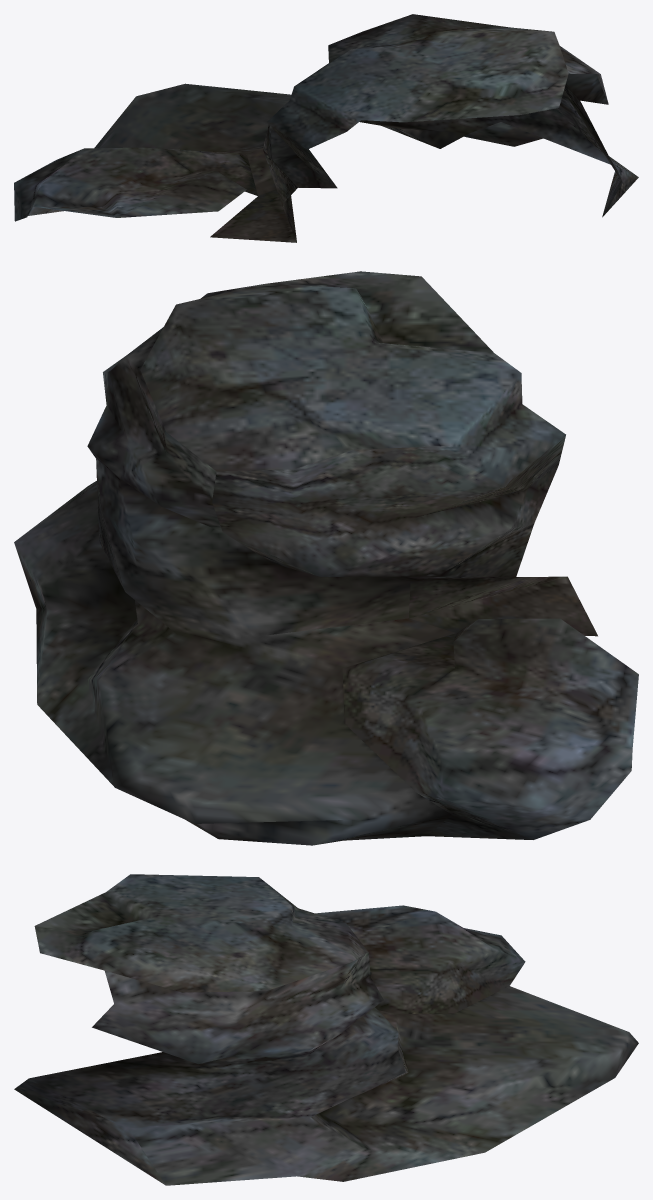
Rendered from S_Rock_Yellow034_H10.FBX.
The picture shows the model from 3 angles, top to bottom: view 1: azimuth 30°, elevation 25°; view 2: azimuth 150°, elevation 25°; view 3: azimuth 270°, elevation 25°; orthographic projection. The views are drawn at different scales.
Parts seen in each view (by area): view 1: S_Rock_Yellow034_H10; view 2: S_Rock_Yellow034_H10; view 3: S_Rock_Yellow034_H10.
Boxes of the visible parts, left/top/right/bottom form: S_Rock_Yellow034_H10: left=14, top=14, right=638, bottom=242; S_Rock_Yellow034_H10: left=14, top=271, right=638, bottom=845; S_Rock_Yellow034_H10: left=14, top=874, right=638, bottom=1185.
Size of the model in its own units: 766 by 755 by 292.
Materials: 1 (1 with a texture image).
